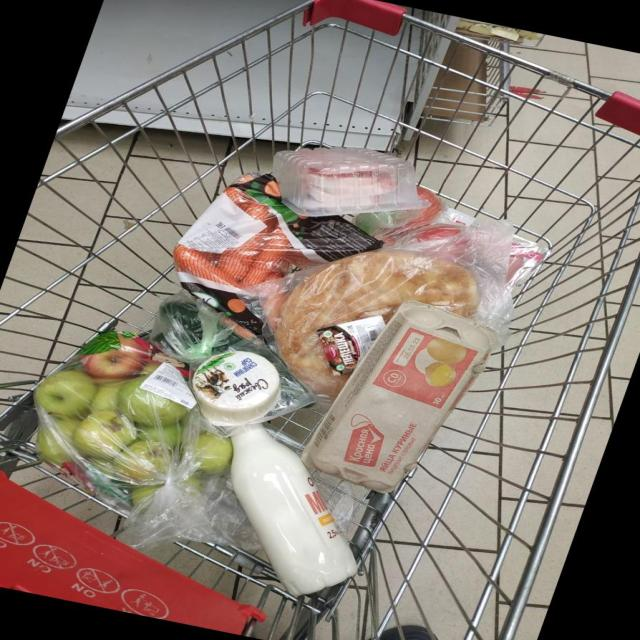Apple: (116, 376, 188, 425), (71, 409, 137, 459), (34, 369, 97, 418), (82, 334, 149, 378), (111, 439, 170, 483), (35, 417, 78, 466), (195, 431, 233, 472), (136, 423, 181, 446), (90, 382, 123, 410), (129, 484, 161, 506), (93, 460, 115, 474), (140, 362, 160, 375)
Bread: (273, 248, 480, 396)
Carrot: (240, 227, 291, 286), (173, 244, 238, 286), (216, 229, 266, 282), (224, 186, 252, 206), (245, 203, 272, 223)
Cheese: (191, 350, 280, 425)
Cucumber: (158, 301, 284, 369)
Eggs: (301, 301, 497, 492)
Meat: (271, 147, 424, 216)
Milk: (230, 422, 357, 595)
Sausages: (505, 235, 545, 289)
Tomatoes: (412, 224, 462, 242), (415, 186, 444, 217)
